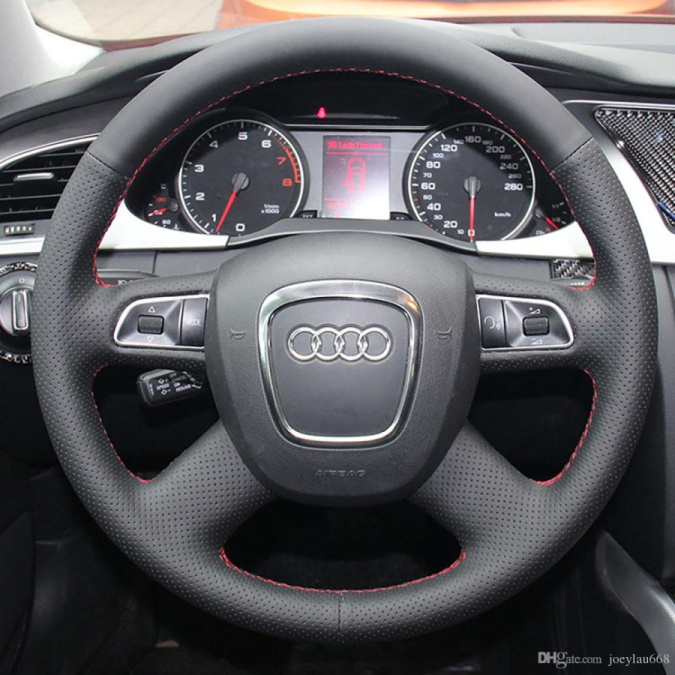audi: (283, 322, 398, 370)
